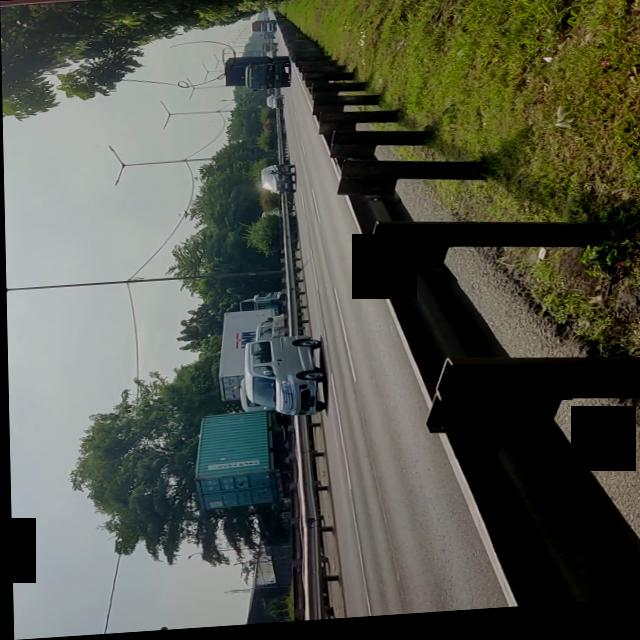Golongan I: (237, 339, 327, 422)
